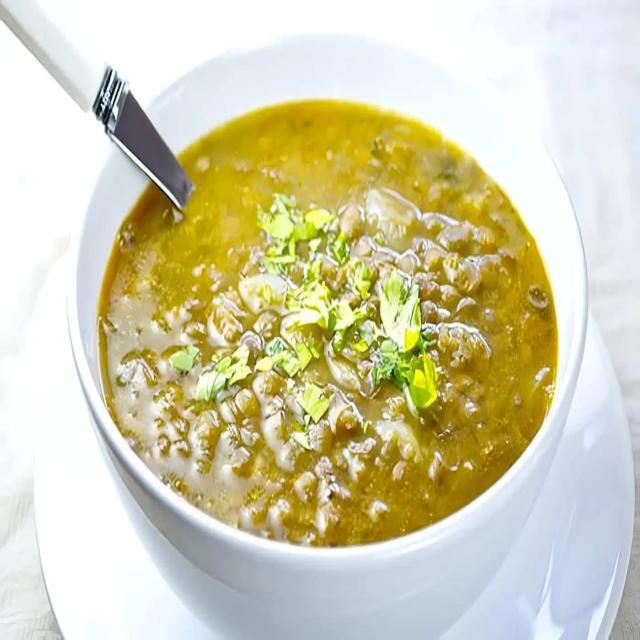lentejas: (119, 157, 548, 535)
